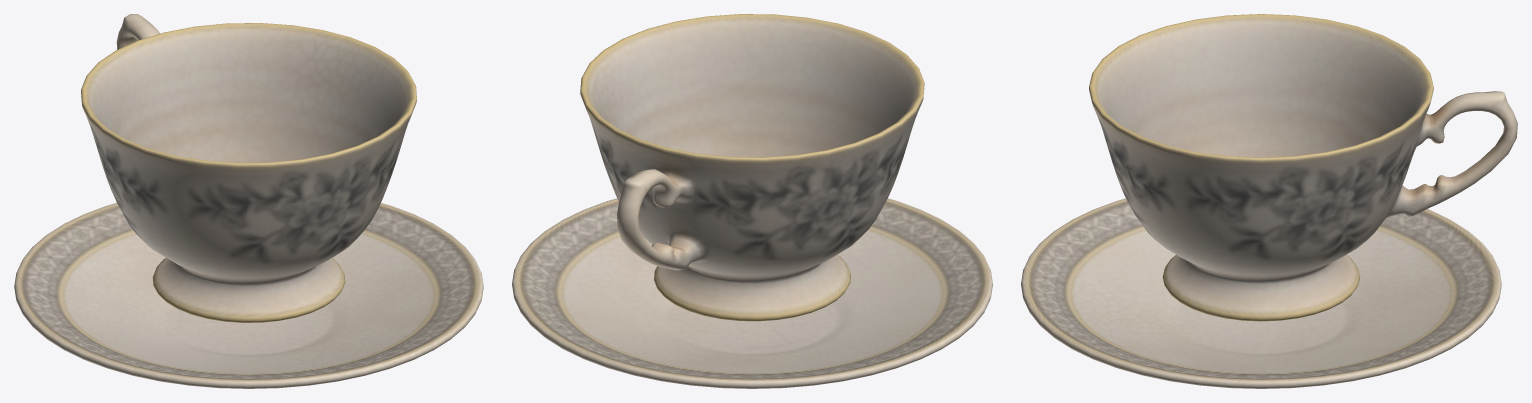
The model's file is coffee.glb.
3 views of the same model, side by side, from view 1: azimuth 30°, elevation 25°; view 2: azimuth 150°, elevation 25°; view 3: azimuth 270°, elevation 25° (orthographic). The views are drawn at different scales.
Parts seen in each view (by area): view 1: tea_set_01_cup_small_01, tea_set_01_saucer_circular_03; view 2: tea_set_01_cup_small_01, tea_set_01_saucer_circular_03; view 3: tea_set_01_cup_small_01, tea_set_01_saucer_circular_03.
Boxes of the visible parts, x1,y1,x2,y2 form: tea_set_01_cup_small_01: (81,14,416,322); tea_set_01_saucer_circular_03: (14,203,483,388); tea_set_01_cup_small_01: (580,14,924,321); tea_set_01_saucer_circular_03: (512,198,992,388); tea_set_01_cup_small_01: (1089,14,1517,321); tea_set_01_saucer_circular_03: (1021,198,1501,388).
Bounding box in the file's own units: 0.149 × 0.0824 × 0.154.
Materials: 1 (1 with a texture image).
